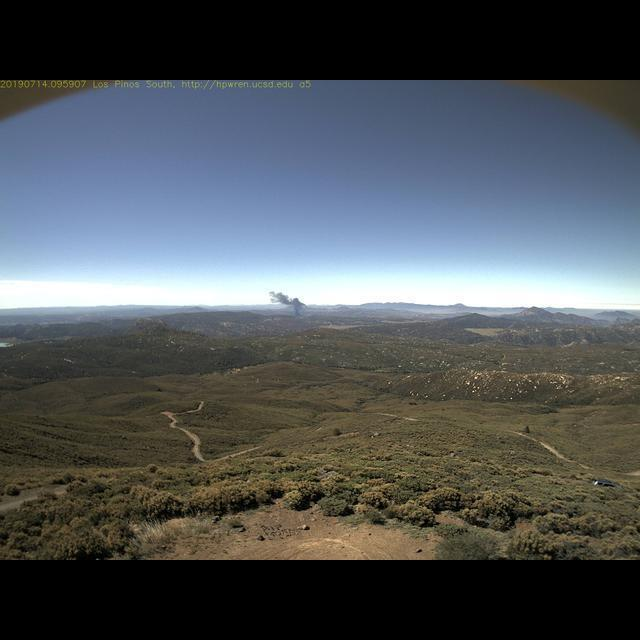Smoke: (266, 287, 309, 319)
